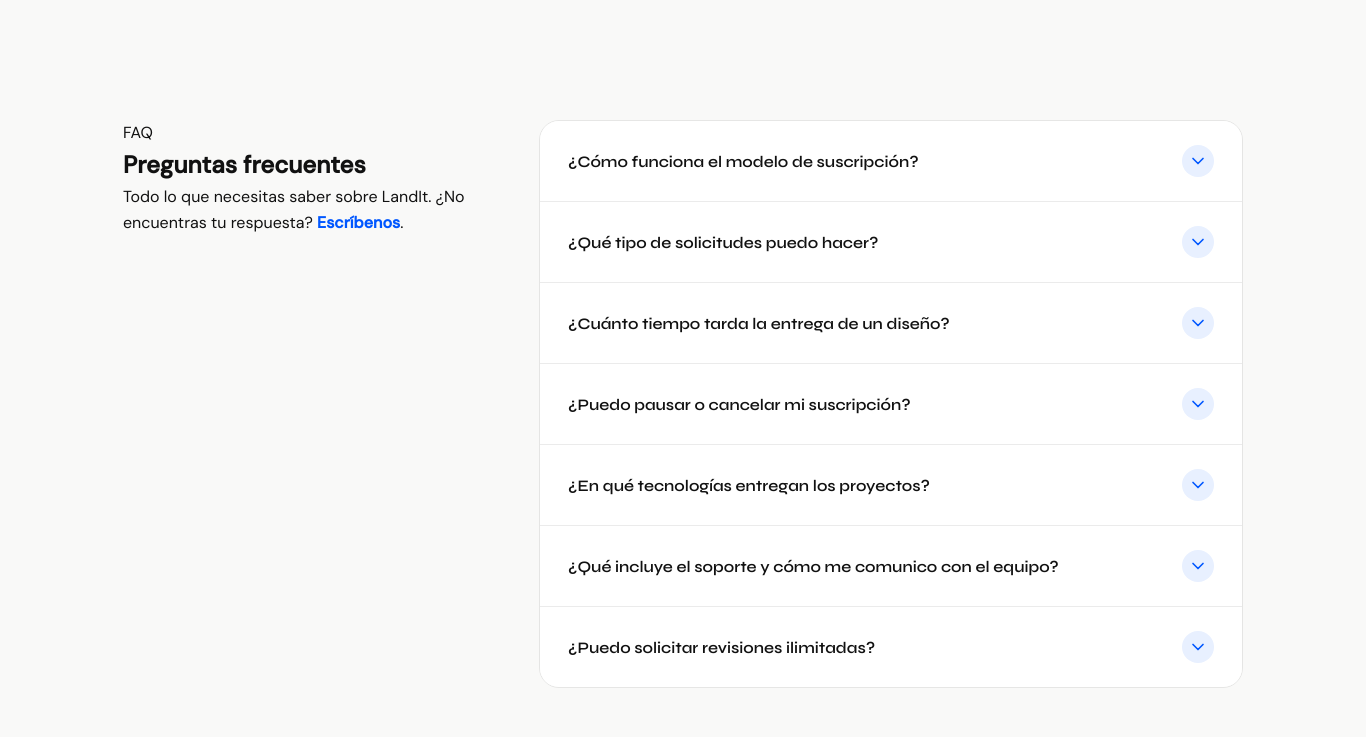
Scenario: FAQSection › clicking a question opens its answer
Click the button "¿Cómo funciona el modelo de suscripción?": (891, 161) [540,121,1242,201]
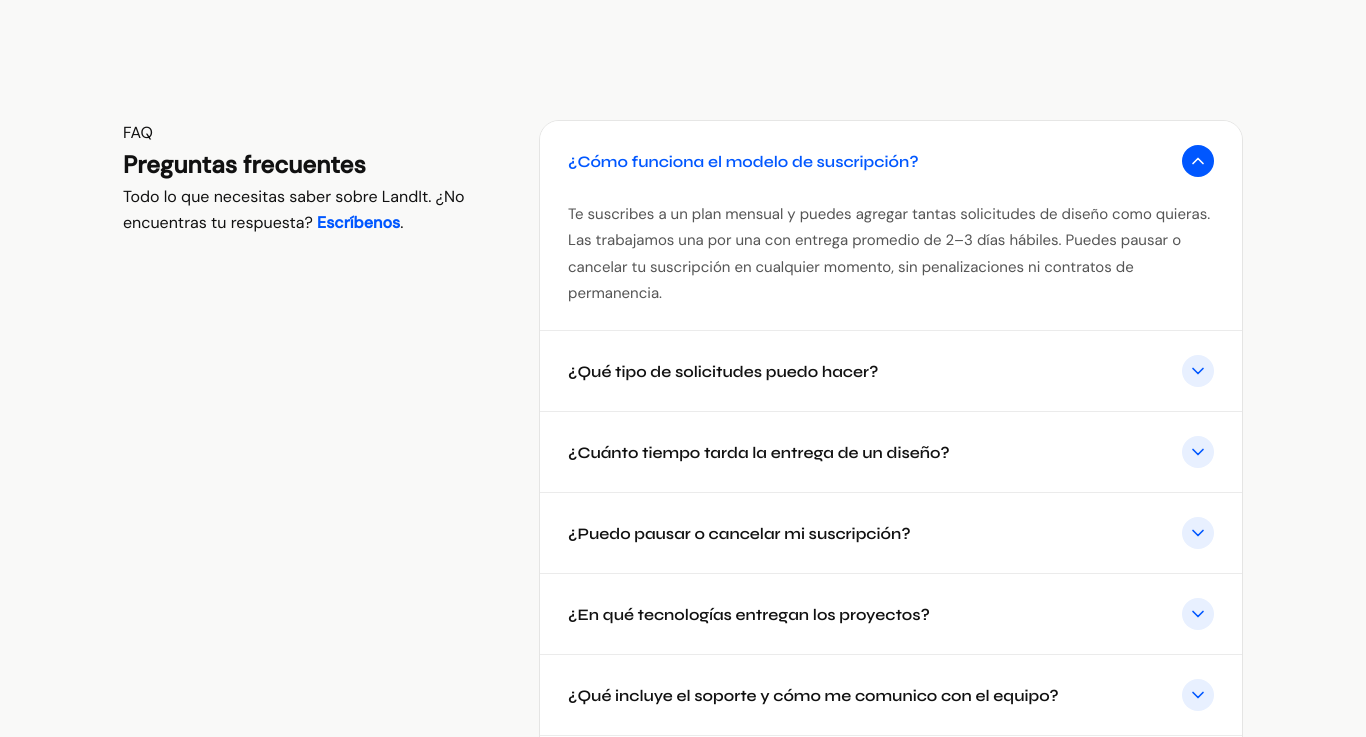
Now the button "¿Cómo funciona el modelo de suscripción?" is expanded, box [540,121,1242,201]
